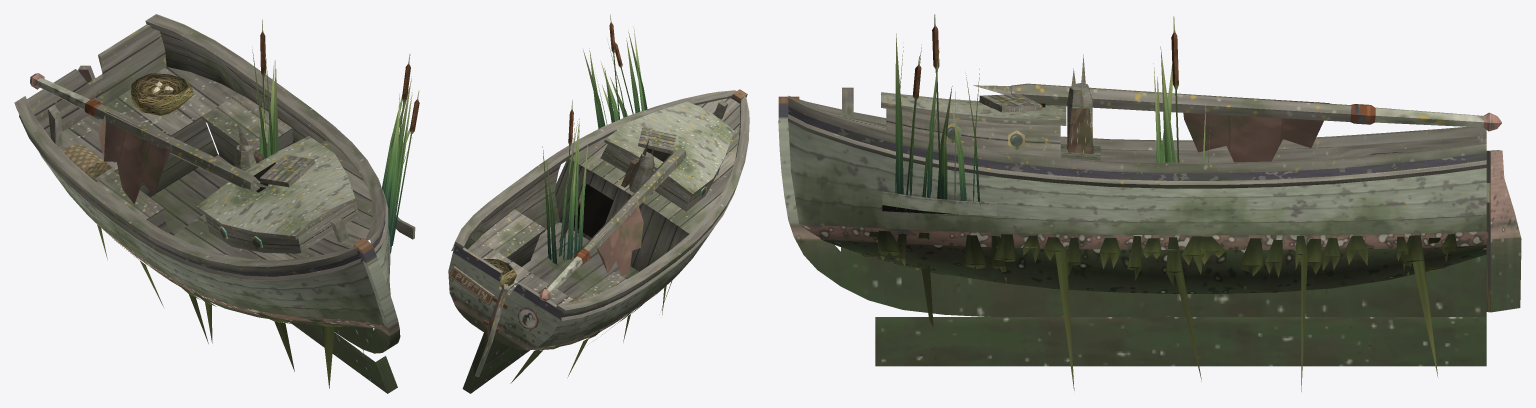
The model's file is puffin-wreck.glb.
3 views of the same model, side by side, from view 1: azimuth 30°, elevation 25°; view 2: azimuth 150°, elevation 25°; view 3: azimuth 270°, elevation 25° (orthographic). The views are drawn at different scales.
Parts seen in each view (by area): view 1: puffin-wreck; view 2: puffin-wreck; view 3: puffin-wreck.
Boxes of the visible parts, x1,y1,x2,y2 form: puffin-wreck: [14, 14, 419, 393]; puffin-wreck: [448, 14, 749, 393]; puffin-wreck: [778, 14, 1521, 391].
Size of the model in its own units: 2.06 by 3.02 by 5.37.
1 material, 1 textured.
